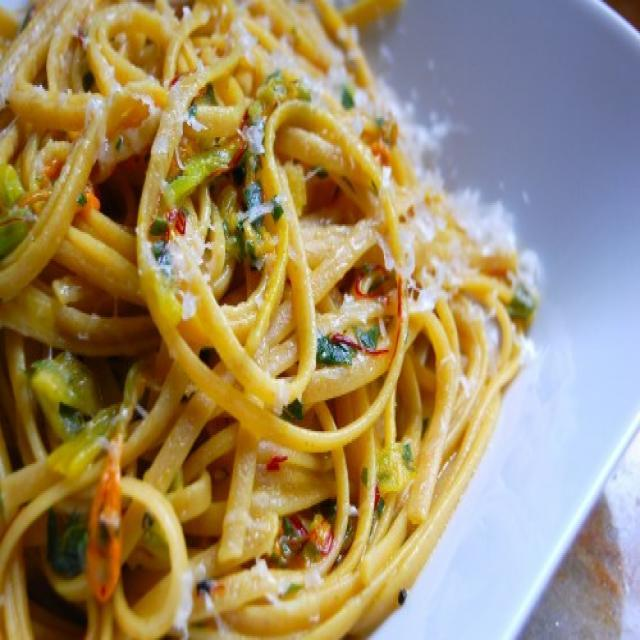Oil pasta: (12, 17, 532, 639)
